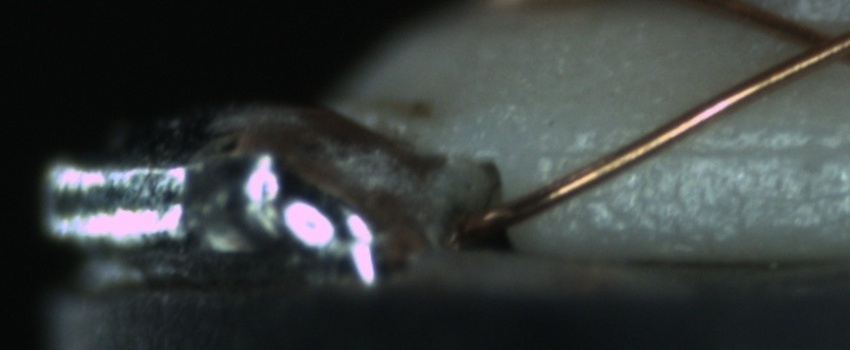CL: (776, 13, 850, 75)
DL: (561, 116, 850, 181)
